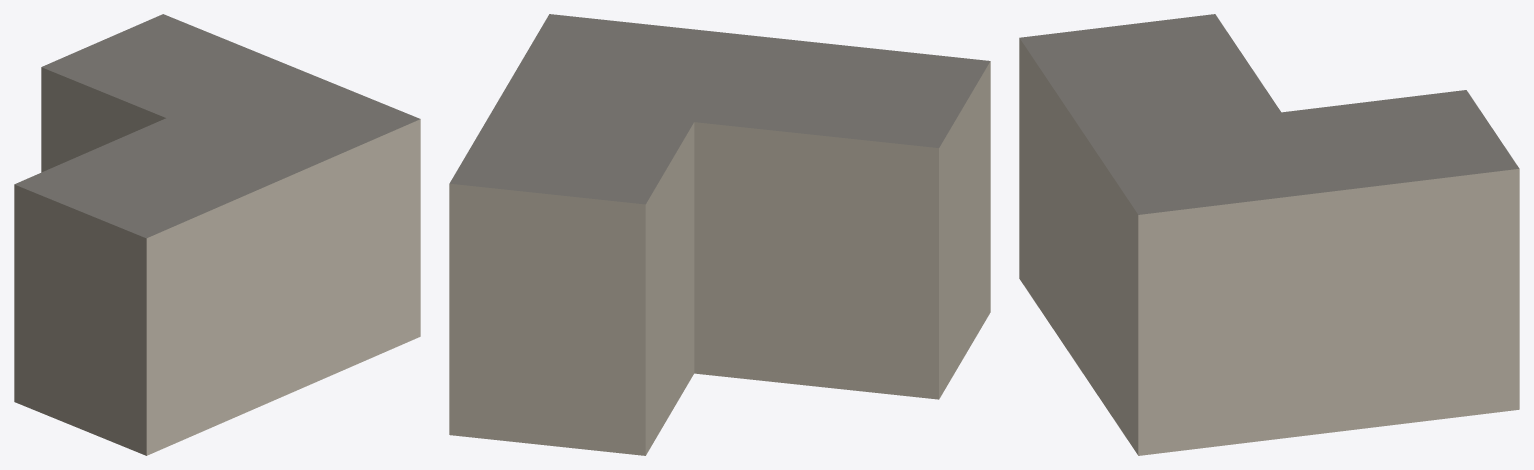
3 views of the same model, side by side, from view 1: azimuth 30°, elevation 25°; view 2: azimuth 150°, elevation 25°; view 3: azimuth 270°, elevation 25° (orthographic). The views are drawn at different scales.
Visible parts, largest first — view 1: HP-w1270806034; view 2: HP-w1270806034; view 3: HP-w1270806034.
Boxes of the visible parts, left/top/right/bottom form: HP-w1270806034: left=14, top=14, right=420, bottom=455; HP-w1270806034: left=449, top=14, right=990, bottom=455; HP-w1270806034: left=1019, top=14, right=1519, bottom=455.
Size of the model in its own units: 32.2 by 18 by 33.86.
